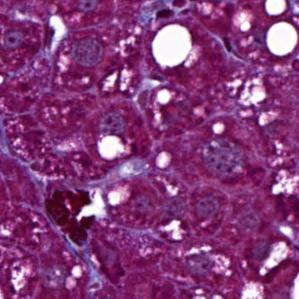inflammation: (144, 3, 195, 28), (33, 20, 62, 54)
